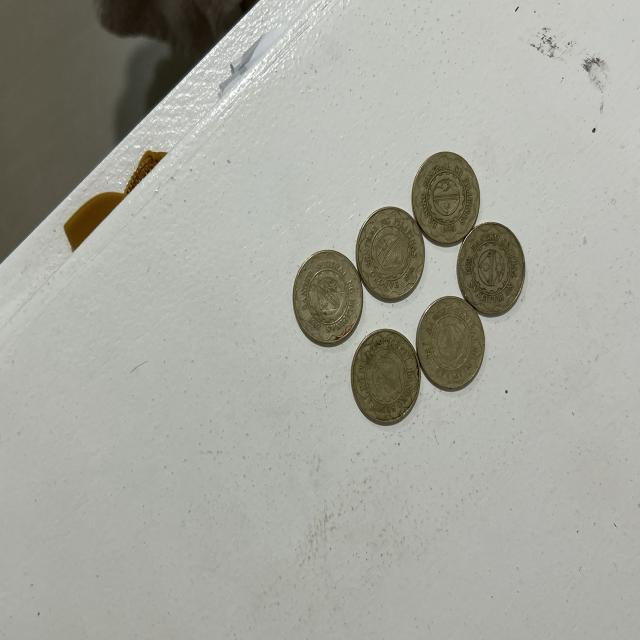5_Old_Back: (292, 250, 365, 346), (356, 207, 427, 302), (348, 330, 422, 418), (461, 221, 525, 317), (416, 301, 486, 388), (414, 154, 480, 244)
